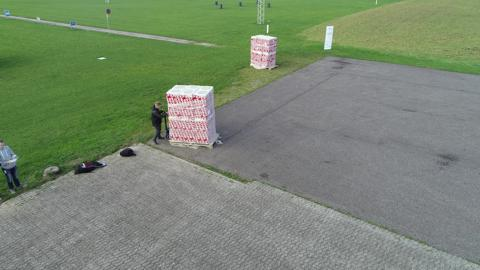RockwoolPallet: (166, 83, 217, 142)
